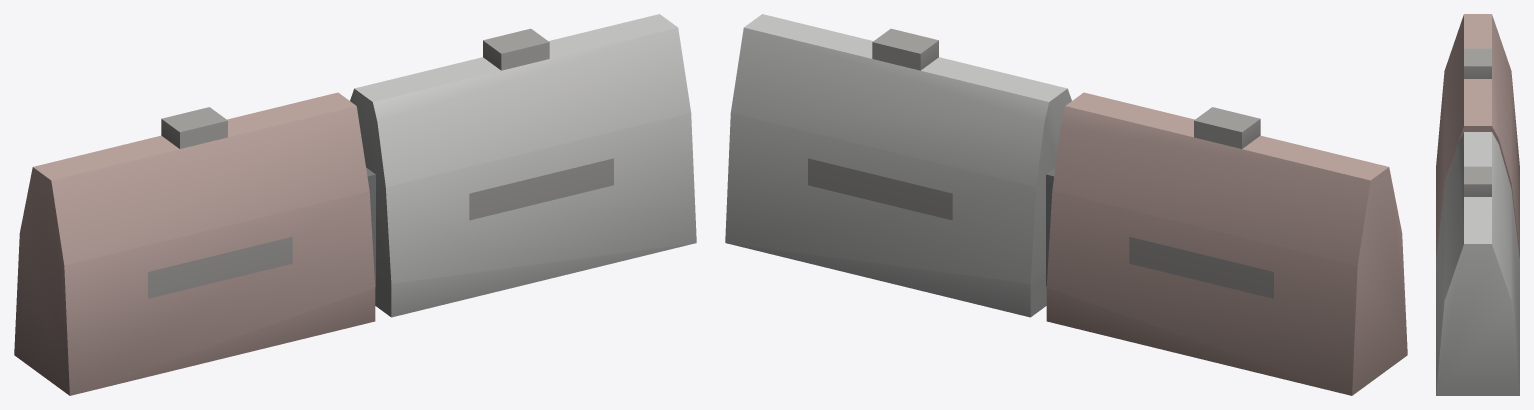
File: waterbar.lod1.glb
3 renders of one model, left to right at view 1: azimuth 30°, elevation 25°; view 2: azimuth 150°, elevation 25°; view 3: azimuth 270°, elevation 25°, orthographic. The views are drawn at different scales.
Bounding box in the file's own units: 3.9 × 1.3 × 0.6.
